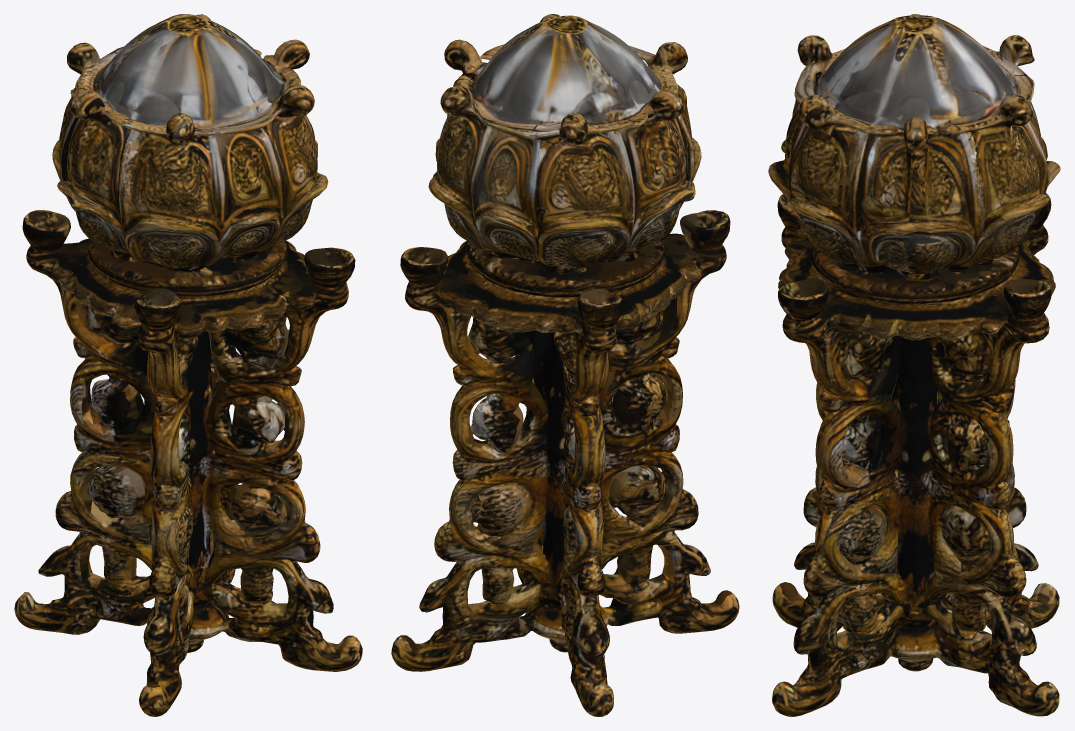
3 views of the same model, side by side, from view 1: azimuth 30°, elevation 25°; view 2: azimuth 150°, elevation 25°; view 3: azimuth 270°, elevation 25° (orthographic). The views are drawn at different scales.
Parts seen in each view (by area): view 1: textured_mesh; view 2: textured_mesh; view 3: textured_mesh.
Boxes of the visible parts, x1=… form: textured_mesh: x1=14, y1=14, x2=362, y2=716; textured_mesh: x1=391, y1=14, x2=739, y2=716; textured_mesh: x1=768, y1=14, x2=1060, y2=716.
Bounding box in the file's own units: 0.8134 × 1.99 × 0.8145.
1 material, 1 textured.
